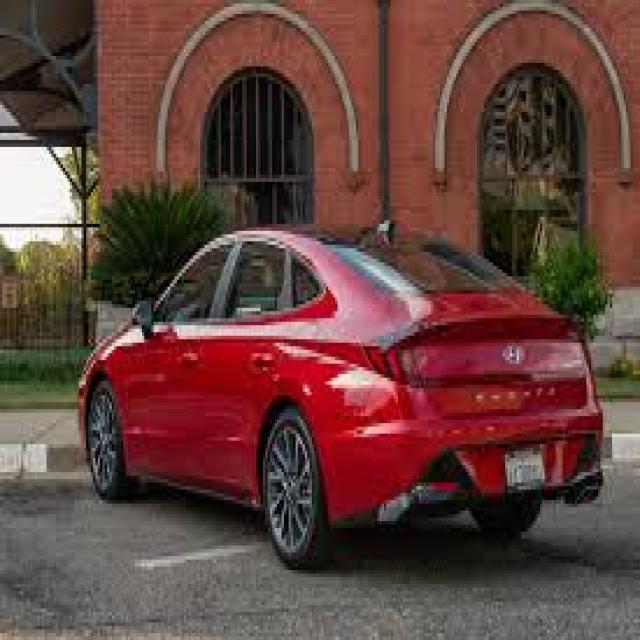car: (49, 228, 614, 566)
